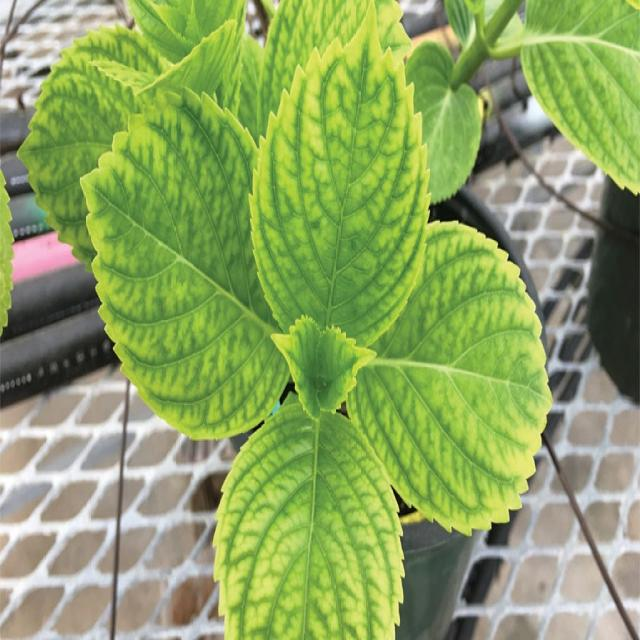Chlorosis: (27, 13, 580, 640)
